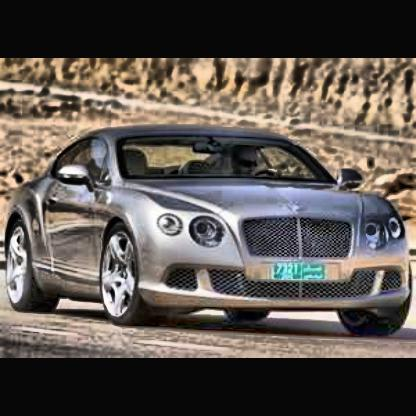Bentley Continental GT Coupe 2012: (6, 124, 416, 345)
